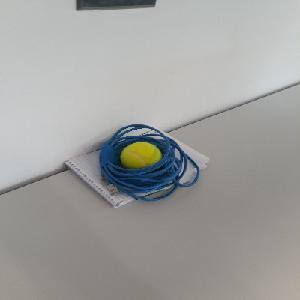Ball: (118, 142, 161, 169)
